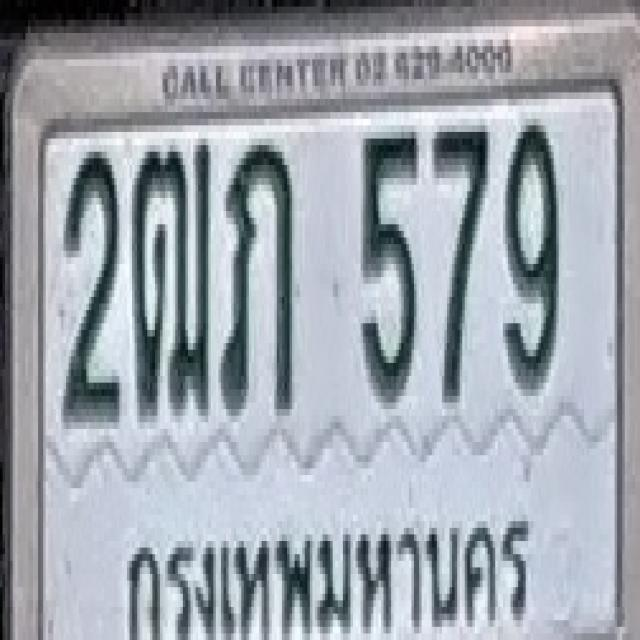2: (62, 145, 118, 422)
5: (361, 125, 419, 402)
7: (432, 122, 488, 399)
9: (503, 119, 559, 389)
A18: (132, 138, 211, 416)
A32: (220, 138, 293, 416)
BKK: (116, 497, 531, 640)
